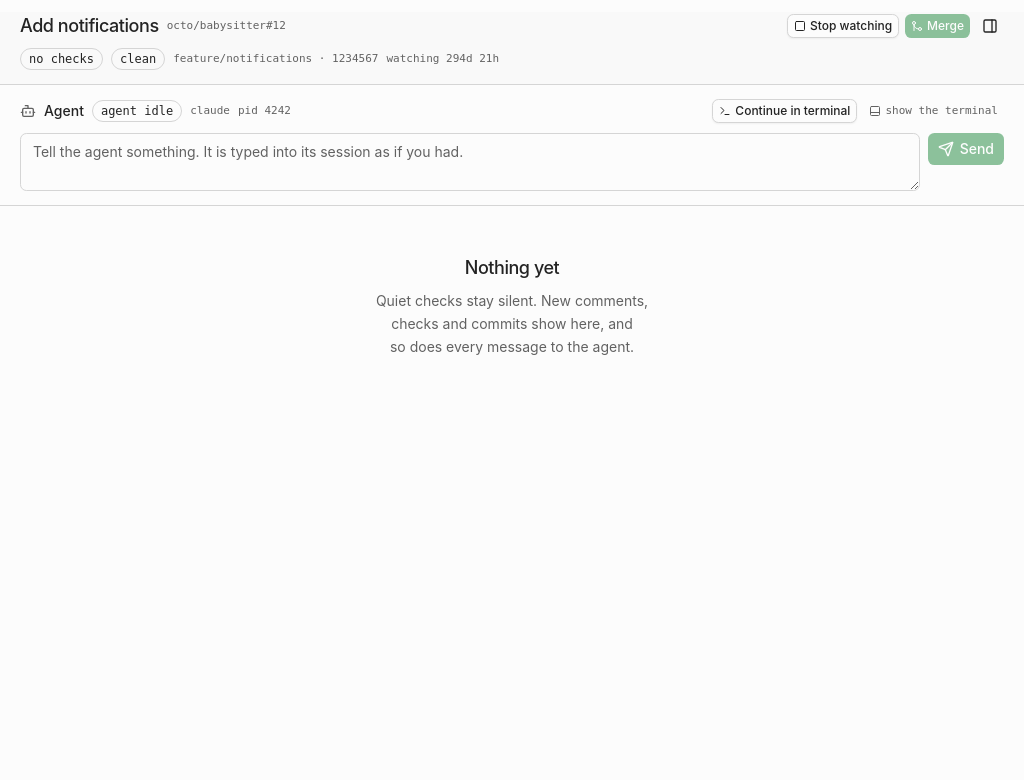
Test: the clean rebase of a watch in auto means nothing, so the panel turns it off
This screenshot has width=1024, height=780.
Click the button named "Watch settings". click: (990, 26)
box: [976,12,1004,40]
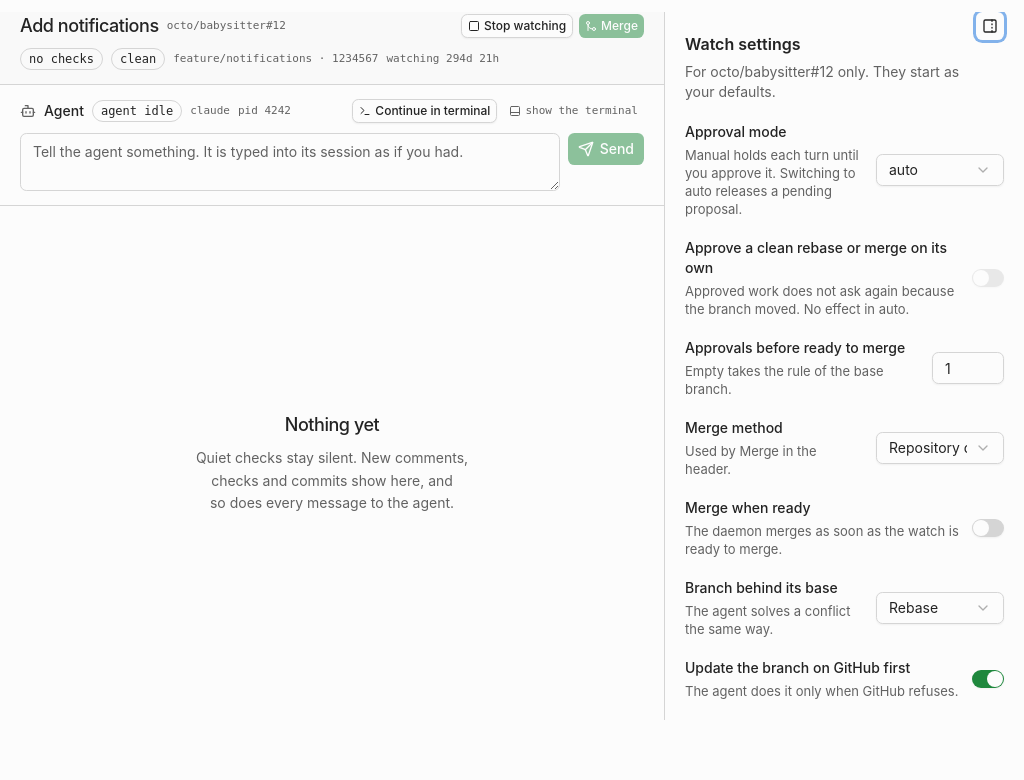
Expected: the dropdown named "Approval mode" reads "auto", [876,154,1004,186]
